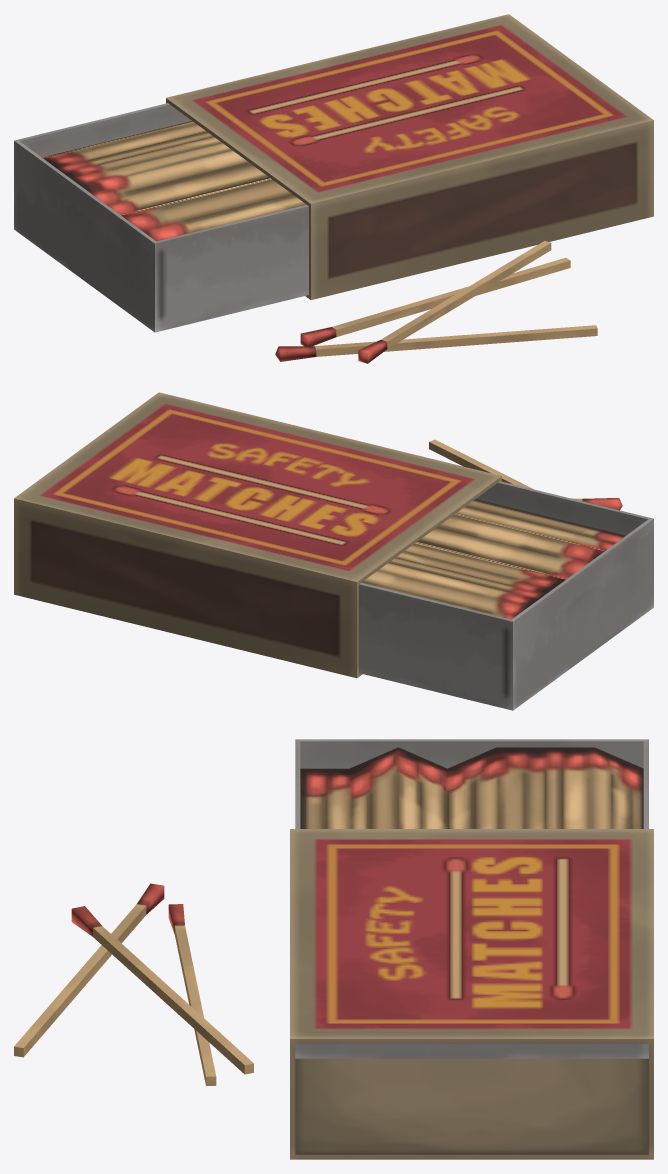
File: ITEM_matchbox_B.FBX
3 views of the same model, one above another, from view 1: azimuth 30°, elevation 25°; view 2: azimuth 150°, elevation 25°; view 3: azimuth 270°, elevation 25° (orthographic). The views are drawn at different scales.
Visible parts, largest first — view 1: ITEM_matchbox_B; view 2: ITEM_matchbox_B; view 3: ITEM_matchbox_B.
Boxes of the visible parts, x1,y1,x2,y2 form: ITEM_matchbox_B: (14,14,653,363); ITEM_matchbox_B: (14,392,653,710); ITEM_matchbox_B: (14,739,653,1159).
Size of the model in its own units: 7.03 by 1.3 by 6.24.
